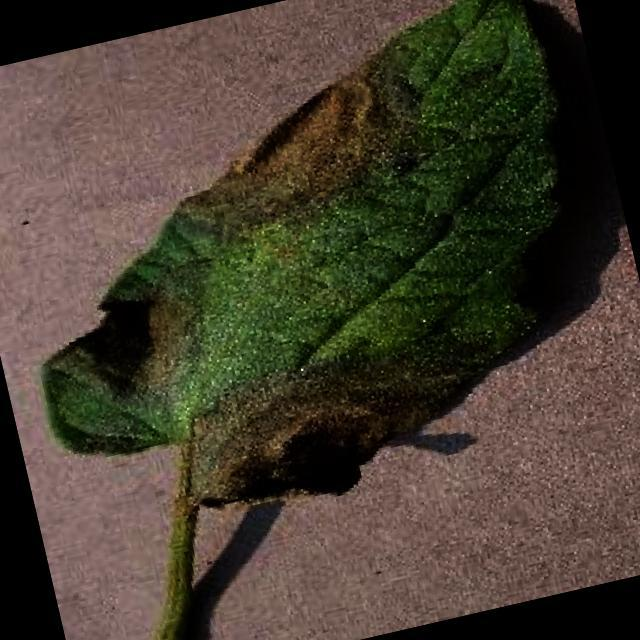Tomato late blight leaf: (0, 0, 634, 560)
